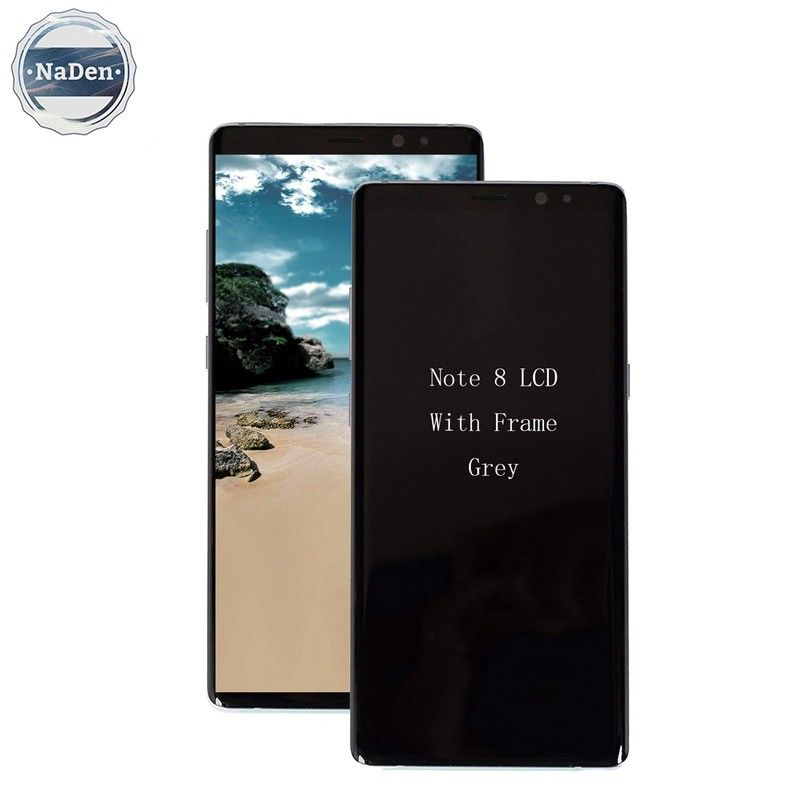Phone: (347, 180, 634, 771), (205, 118, 487, 712)
